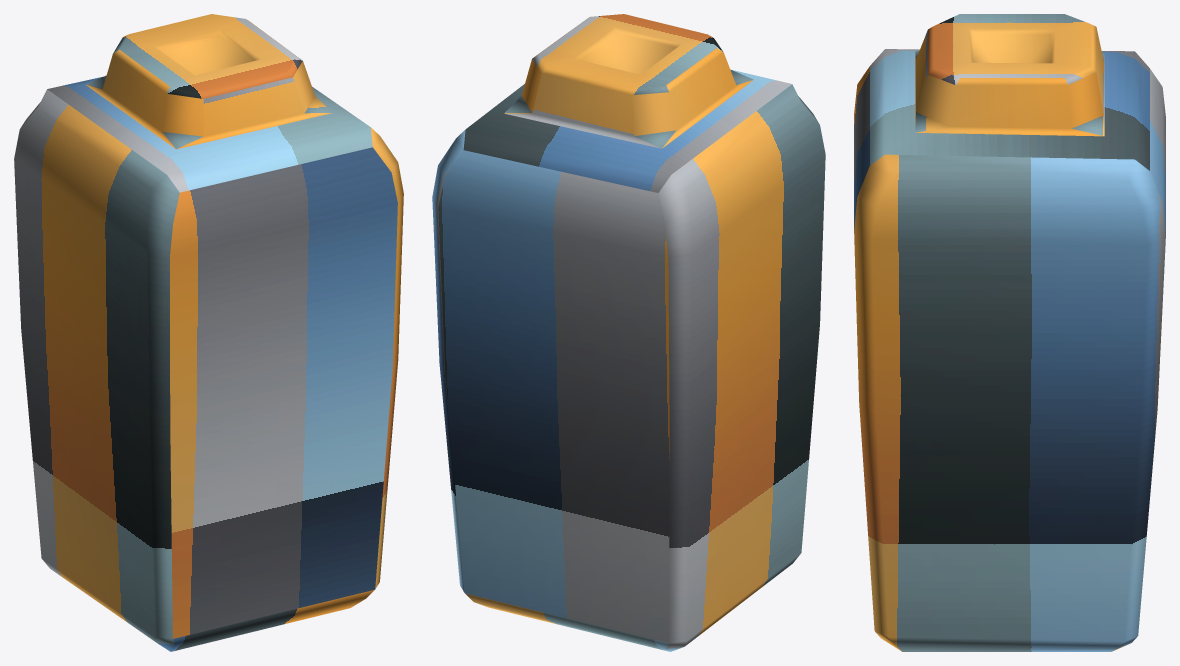
The model's file is CharSkyKid_Prop_JarTall.glb.
3 views of the same model, side by side, from view 1: azimuth 30°, elevation 25°; view 2: azimuth 150°, elevation 25°; view 3: azimuth 270°, elevation 25° (orthographic). The views are drawn at different scales.
Visible parts, largest first — view 1: CharSkyKid_Prop_JarTall; view 2: CharSkyKid_Prop_JarTall; view 3: CharSkyKid_Prop_JarTall.
Boxes of the visible parts, <box> form: CharSkyKid_Prop_JarTall: <box>14,14,403,651</box>; CharSkyKid_Prop_JarTall: <box>432,14,825,651</box>; CharSkyKid_Prop_JarTall: <box>854,14,1165,651</box>.
Bounding box in the file's own units: 0.352 × 0.7056 × 0.3552.
1 material, 1 textured.
